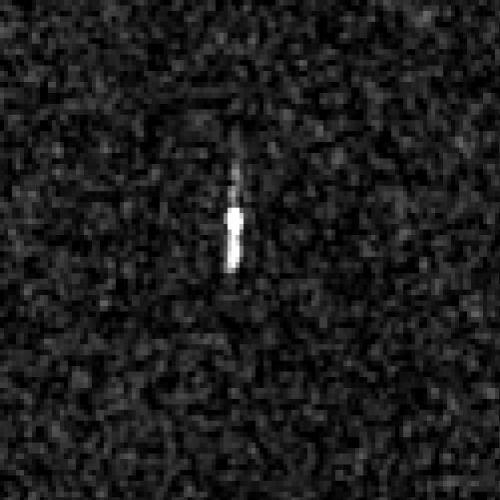ship: (222, 202, 246, 274)
